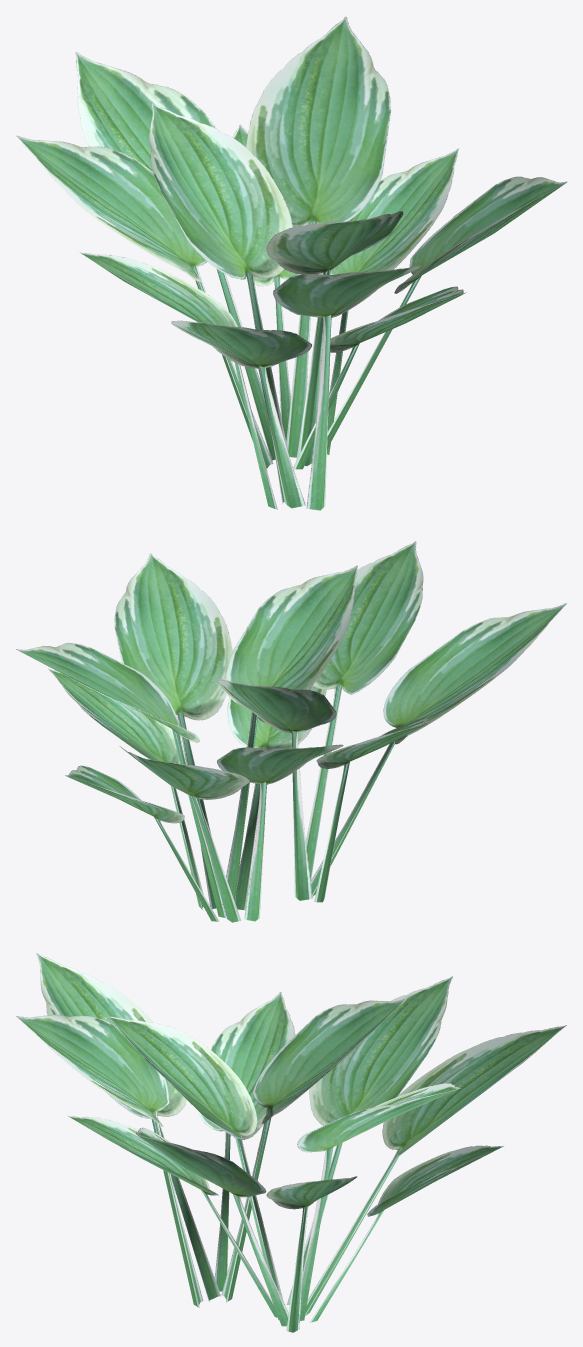
The model's file is plant_small_wg_03B.fbx.
The picture shows the model from 3 angles, top to bottom: view 1: azimuth 30°, elevation 25°; view 2: azimuth 150°, elevation 25°; view 3: azimuth 270°, elevation 25°; orthographic projection. The views are drawn at different scales.
Parts seen in each view (by area): view 1: plant_small_wg_03B; view 2: plant_small_wg_03B; view 3: plant_small_wg_03B.
Part boxes in pixels (x1,y1,x2,y2): plant_small_wg_03B: [16, 16, 566, 510]; plant_small_wg_03B: [16, 541, 566, 922]; plant_small_wg_03B: [16, 953, 566, 1332].
Size of the model in its own units: 53.97 by 40.91 by 70.08.
